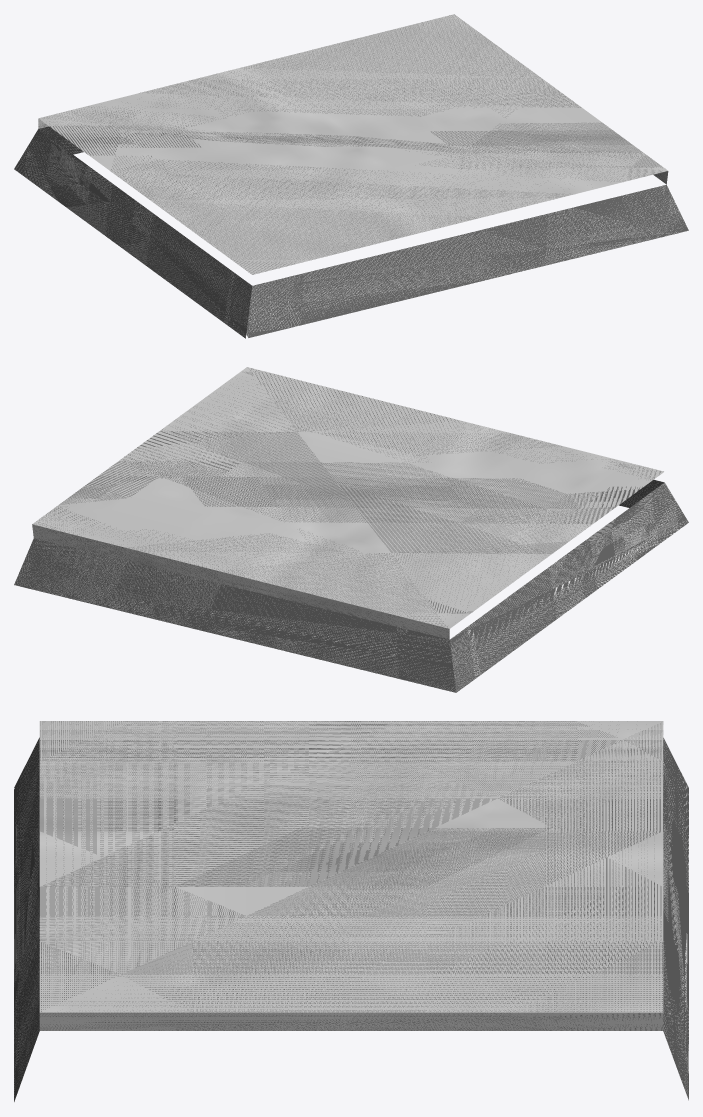
The model's file is original-52.obj.
3 renders of one model, top to bottom at view 1: azimuth 30°, elevation 25°; view 2: azimuth 150°, elevation 25°; view 3: azimuth 270°, elevation 25°, orthographic. The views are drawn at different scales.
Visible parts, largest first — view 1: tus50/tus/mesh1/mesh1-geometry#mesh1-geometry; view 2: tus50/tus/mesh1/mesh1-geometry#mesh1-geometry; view 3: tus50/tus/mesh1/mesh1-geometry#mesh1-geometry.
Part boxes in pixels (<box>): tus50/tus/mesh1/mesh1-geometry#mesh1-geometry: <box>14,14,688,338</box>; tus50/tus/mesh1/mesh1-geometry#mesh1-geometry: <box>14,367,688,692</box>; tus50/tus/mesh1/mesh1-geometry#mesh1-geometry: <box>14,721,688,1101</box>.
Size of the model in its own units: 0.0476 by 0.00578 by 0.0432.
